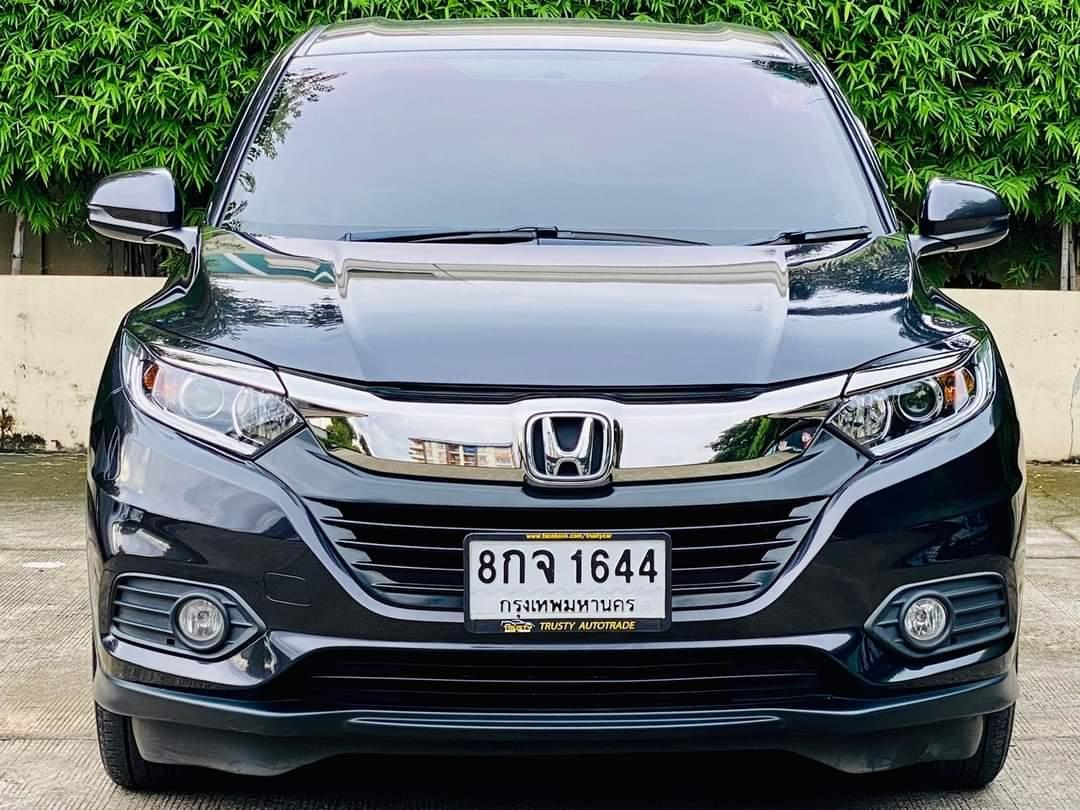license-plate: (464, 532, 674, 633)
